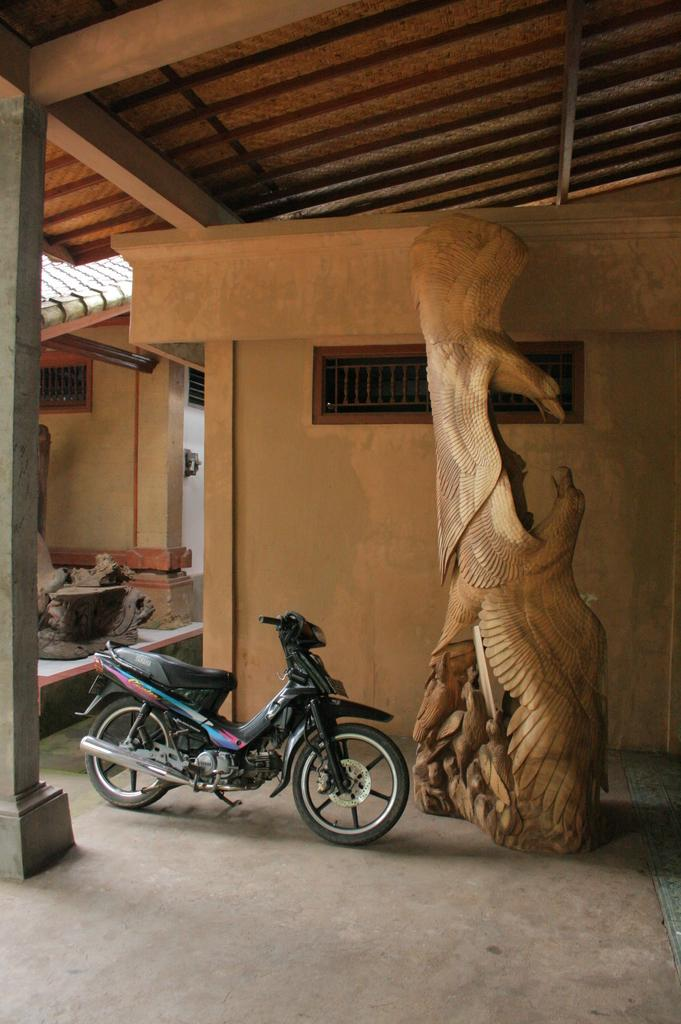Motorcycle: (70, 621, 422, 851)
